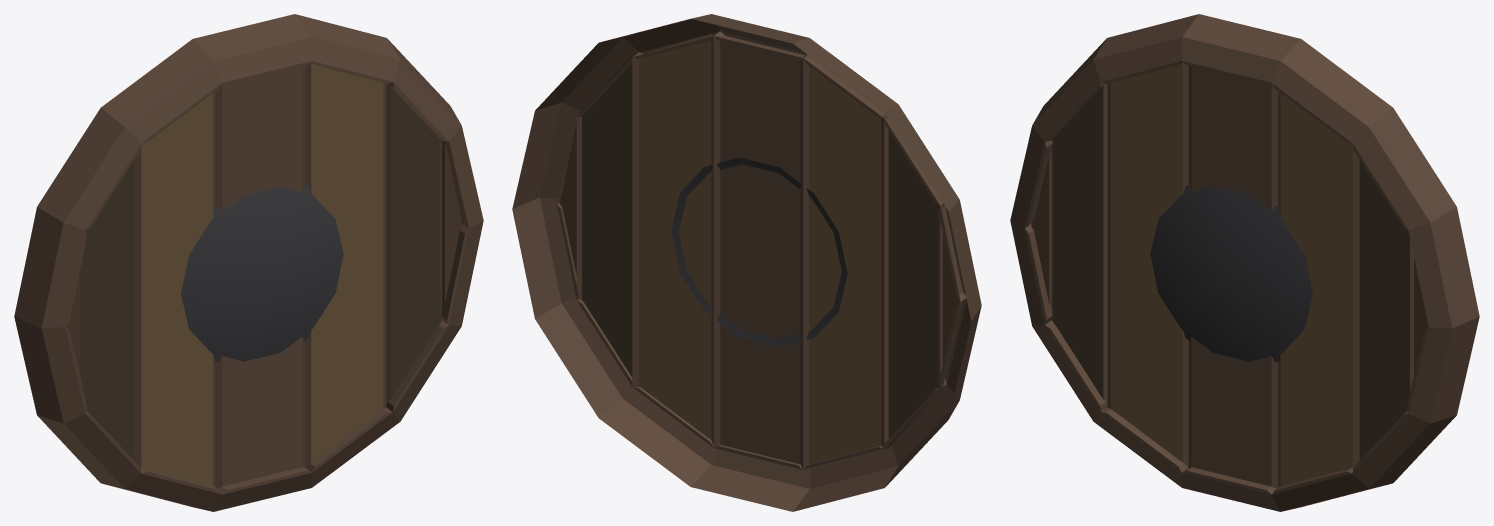
The model's file is Shield_1.fbx.
3 views of the same model, side by side, from view 1: azimuth 30°, elevation 25°; view 2: azimuth 150°, elevation 25°; view 3: azimuth 330°, elevation 25° (orthographic).
Parts seen in each view (by area): view 1: polySurface2951; view 2: polySurface2951; view 3: polySurface2951.
Part boxes in pixels (box(x1,y1,x2,y2)): polySurface2951: box(14, 14, 483, 511); polySurface2951: box(512, 14, 981, 511); polySurface2951: box(1010, 14, 1479, 511).
Bounding box in the file's own units: 126 × 123 × 14.18.
